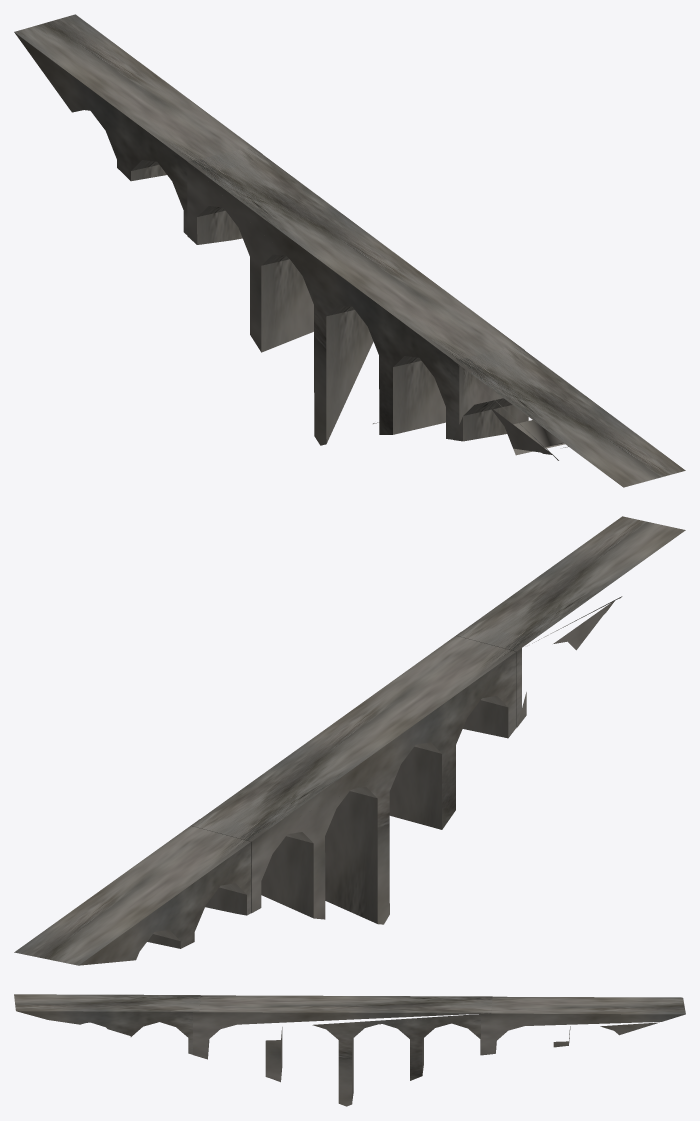
File: bridge2.gltf
3 views of the same model, one above another, from view 1: azimuth 30°, elevation 25°; view 2: azimuth 150°, elevation 25°; view 3: azimuth 270°, elevation 25° (orthographic). The views are drawn at different scales.
Visible parts, largest first — view 1: bridge2_atomic0; view 2: bridge2_atomic0; view 3: bridge2_atomic0.
Part boxes in pixels (box(x1,y1,x2,y2)): bridge2_atomic0: box(14, 14, 685, 487); bridge2_atomic0: box(14, 516, 685, 965); bridge2_atomic0: box(14, 994, 685, 1106).
Size of the model in its own units: 47.72 by 113 by 689.
2 materials, 1 textured.
